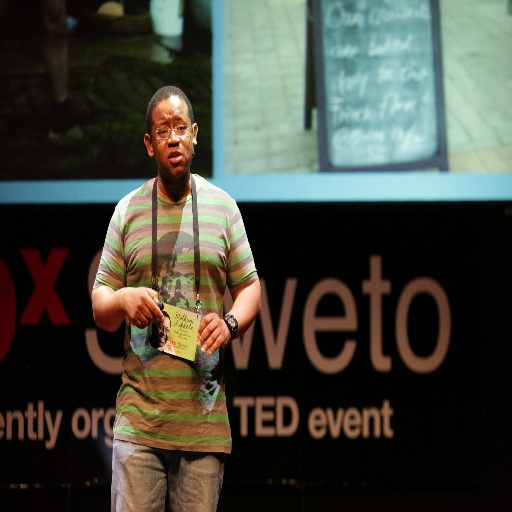hand: (119, 281, 161, 347), (196, 312, 230, 356)
